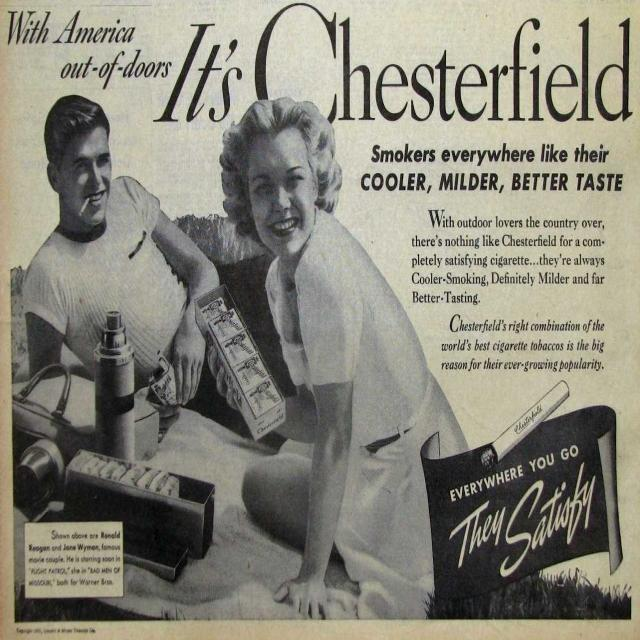Smooking: (74, 189, 93, 225)
